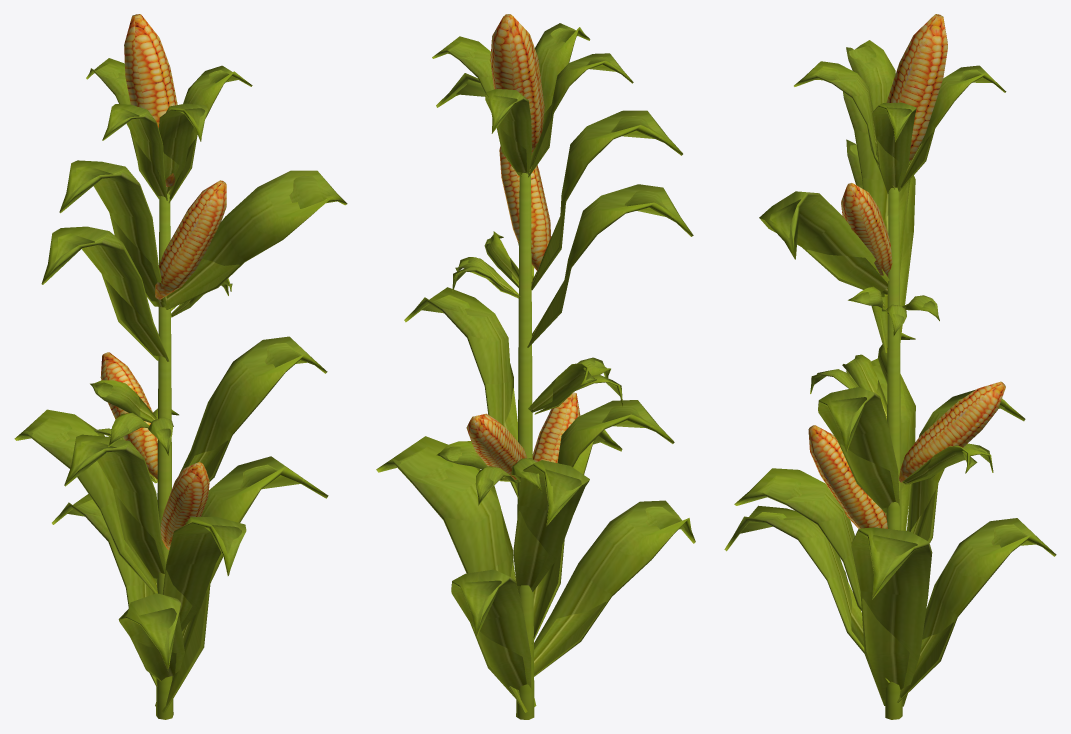
File: CornPlant.glb
3 views of the same model, side by side, from view 1: azimuth 30°, elevation 25°; view 2: azimuth 150°, elevation 25°; view 3: azimuth 270°, elevation 25° (orthographic). The views are drawn at different scales.
Visible parts, largest first — view 1: Plant, Corn Cob.3, Corn Cob.1, Corn Cob.2, Corn Cob; view 2: Plant, Corn Cob.1, Corn Cob.3, Corn Cob, Corn Cob.2; view 3: Plant, Corn Cob.1, Corn Cob, Corn Cob.2, Corn Cob.3.
Part boxes in pixels (x1,y1,x2,y2): Plant: (14,58,347,719); Corn Cob.3: (155,180,226,299); Corn Cob.1: (124,14,177,186); Corn Cob.2: (160,462,209,549); Corn Cob: (100,352,157,479); Plant: (376,23,695,719); Corn Cob.1: (490,14,544,154); Corn Cob.3: (499,145,551,270); Corn Cob: (466,413,526,479); Corn Cob.2: (532,392,580,462); Plant: (724,40,1056,719); Corn Cob.1: (886,14,947,161); Corn Cob: (899,381,1005,482); Corn Cob.2: (808,425,887,528); Corn Cob.3: (841,183,892,276).
Size of the model in its own units: 11.24 by 24.99 by 10.77.
Materials: 1 (1 with a texture image).
